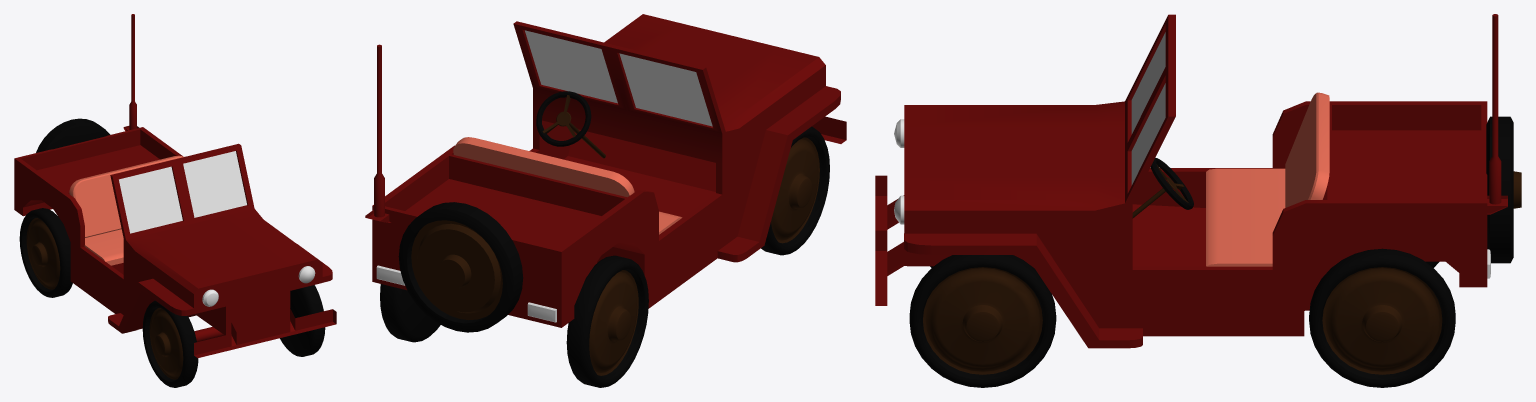
Rendered from Jeep  Enemy.fbx.
The picture shows the model from 3 angles, left to right: view 1: azimuth 30°, elevation 25°; view 2: azimuth 150°, elevation 25°; view 3: azimuth 270°, elevation 25°; orthographic projection. The views are drawn at different scales.
Visible parts, largest first — view 1: Base, BackWheels, FrontWheel.R, FrontWheel.L; view 2: Base, BackWheels, FrontWheel.R, Steering Wheel; view 3: Base, BackWheels, FrontWheel.L, Steering Wheel.
Boxes of the visible parts, bbox=[...] form: Base: bbox=[14, 14, 336, 357]; BackWheels: bbox=[19, 208, 72, 297]; FrontWheel.R: bbox=[142, 300, 198, 387]; FrontWheel.L: bbox=[280, 285, 325, 356]; Base: bbox=[365, 14, 846, 332]; BackWheels: bbox=[380, 255, 648, 387]; FrontWheel.R: bbox=[761, 126, 829, 255]; Steering Wheel: bbox=[536, 91, 605, 158]; Base: bbox=[875, 14, 1521, 348]; BackWheels: bbox=[1309, 248, 1455, 387]; FrontWheel.L: bbox=[909, 255, 1056, 387]; Steering Wheel: bbox=[1132, 158, 1193, 218].
Size of the model in its own units: 405 by 548 by 881.
